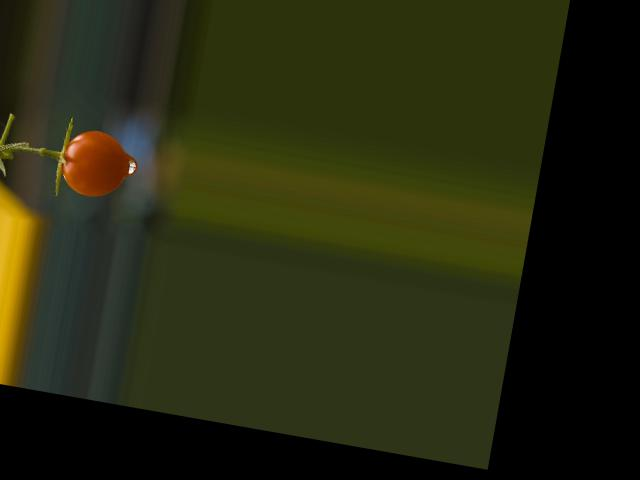tomato: (57, 125, 132, 201)
